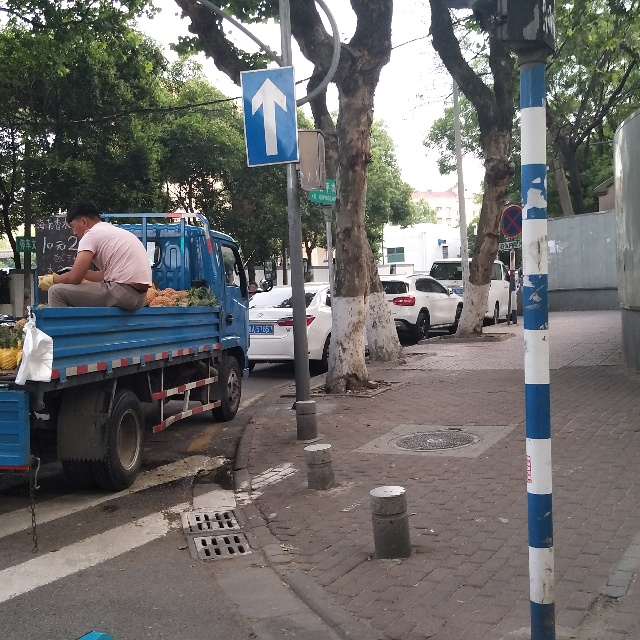straight: (233, 63, 315, 171)
